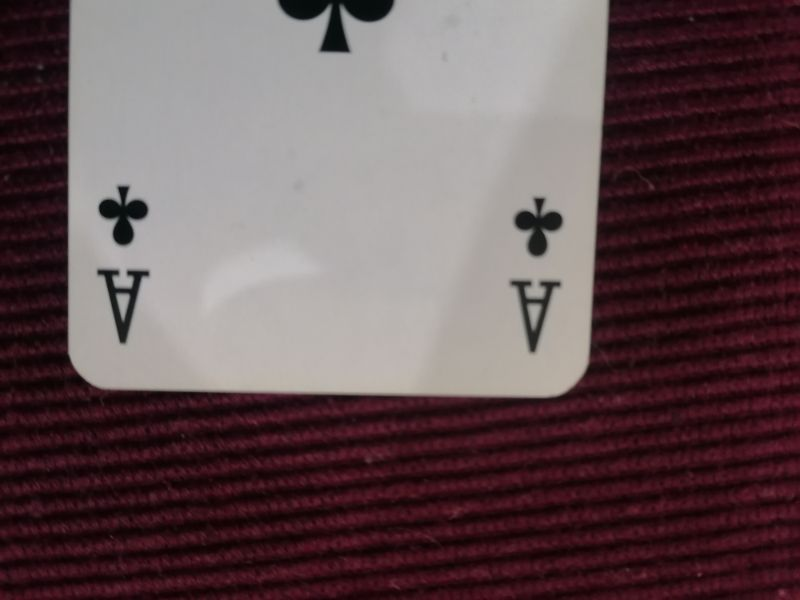Ac: (86, 171, 159, 350), (507, 193, 567, 361)
